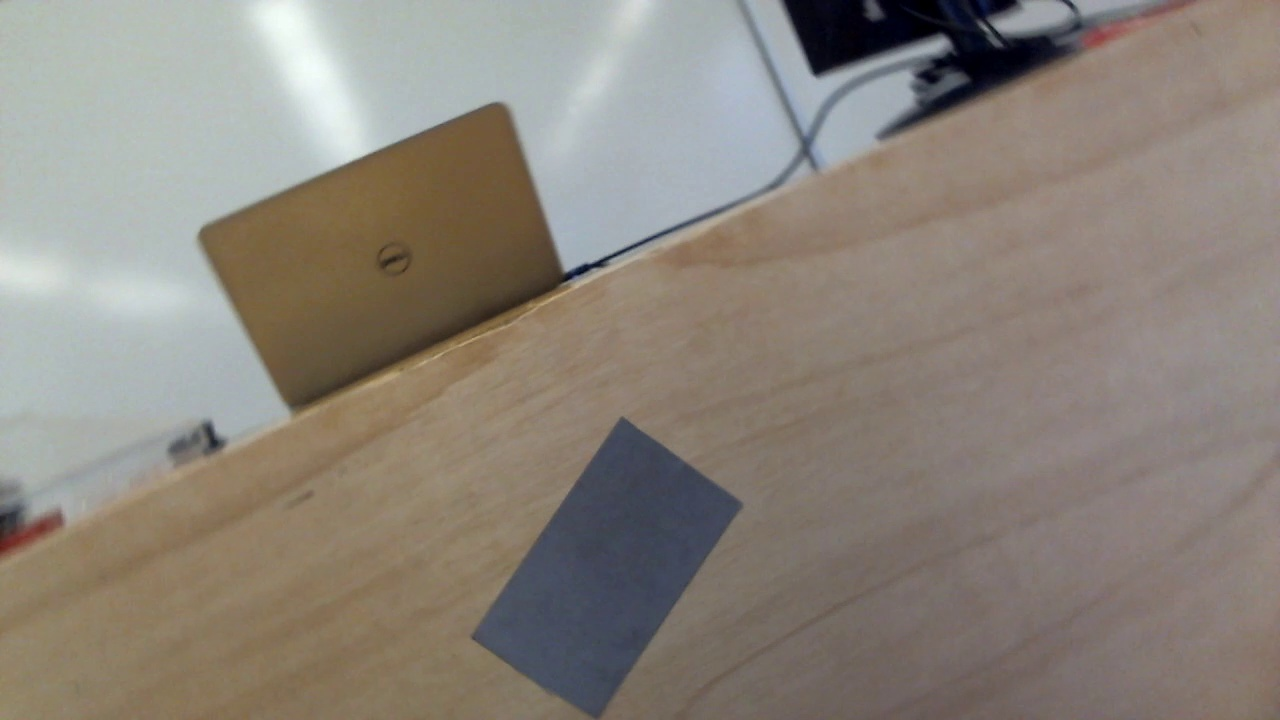Tape: (470, 416, 746, 720)
